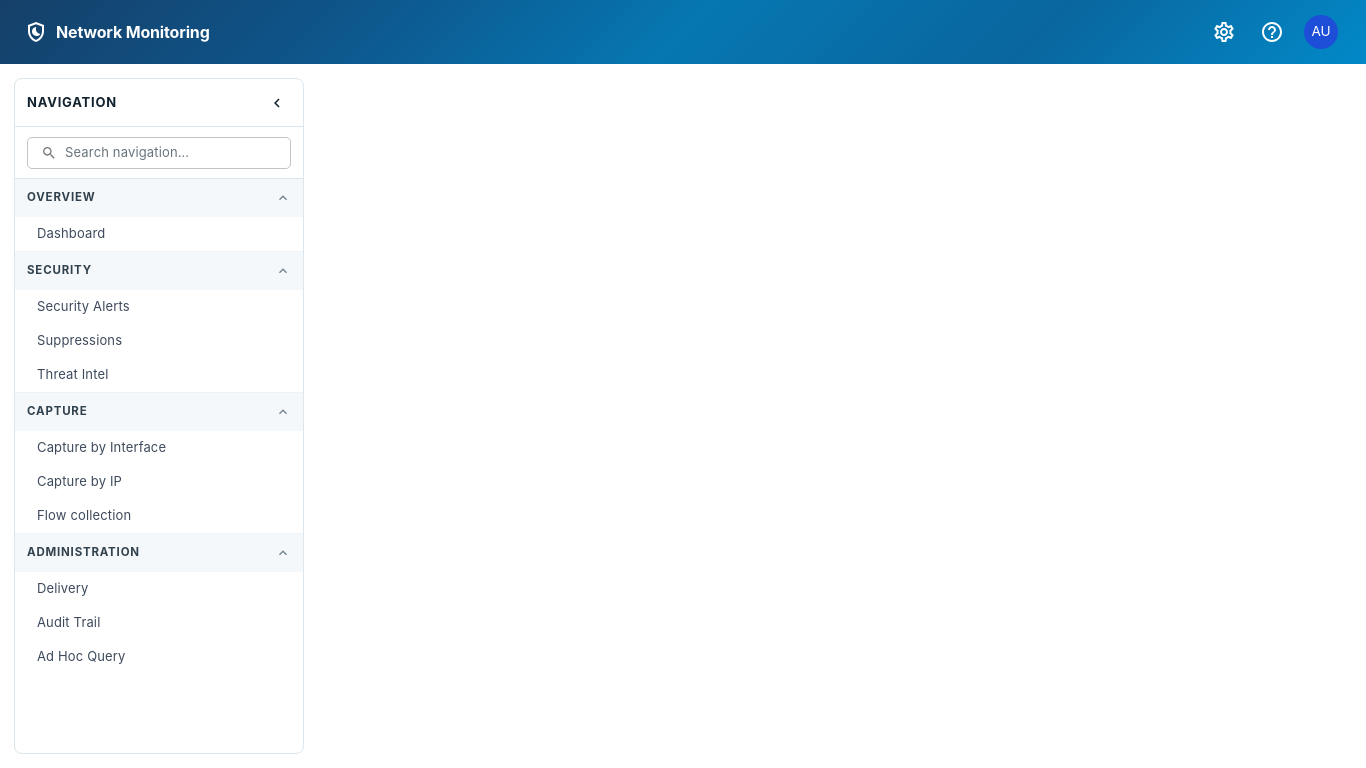
Test: AppLayout panel search › finds a group by the heading the user is looking at
The image size is (1366, 768).
Expected: the link "Security Alerts" is shown, [37, 298, 130, 314]
In the field labelled "Search navigation…": [178, 153] box [65, 135, 291, 170], type "administr"
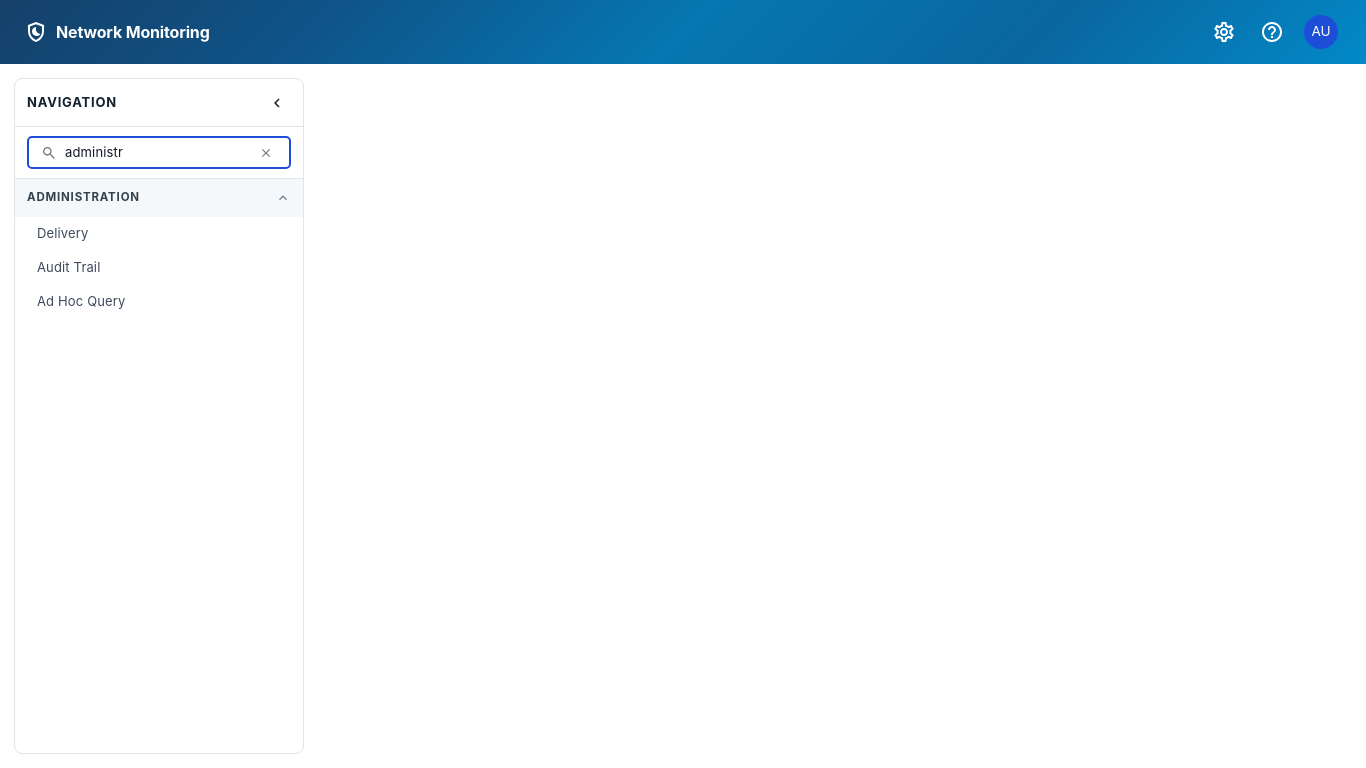
Expected: the button "Administration" is shown, [15, 179, 303, 217]
Expected: the button "Security" is gone
